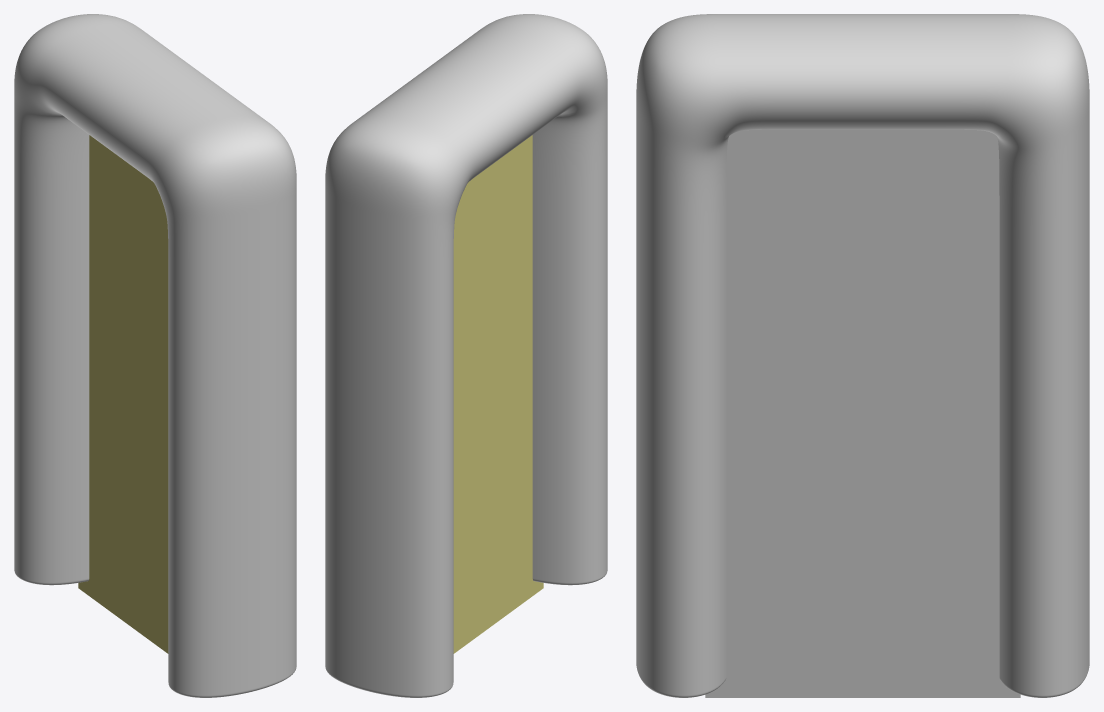
Rendered from Puerta.fbx.
3 views of the same model, side by side, from view 1: azimuth 30°, elevation 25°; view 2: azimuth 150°, elevation 25°; view 3: azimuth 270°, elevation 25° (orthographic). The views are drawn at different scales.
Visible parts, largest first — view 1: Marco puerta, Luz; view 2: Marco puerta, Luz; view 3: Puerta, Marco puerta.
Part boxes in pixels (left/top/right/bottom): Marco puerta: left=14, top=14, right=296, bottom=697; Luz: left=78, top=135, right=168, bottom=653; Marco puerta: left=325, top=14, right=607, bottom=697; Luz: left=453, top=135, right=543, bottom=653; Puerta: left=705, top=129, right=1020, bottom=697; Marco puerta: left=636, top=14, right=1089, bottom=697.
Size of the model in its own units: 180 by 774 by 486.
